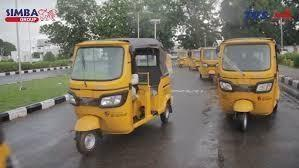keke: (69, 38, 176, 158), (212, 38, 284, 132)
